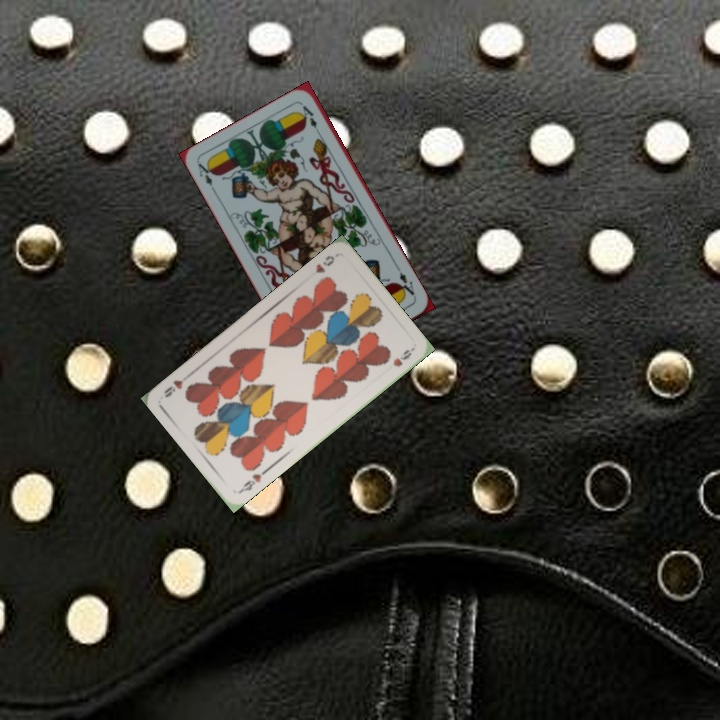EA: (194, 158, 219, 196), (393, 268, 419, 301)
H9: (235, 470, 264, 495), (311, 251, 337, 276)
